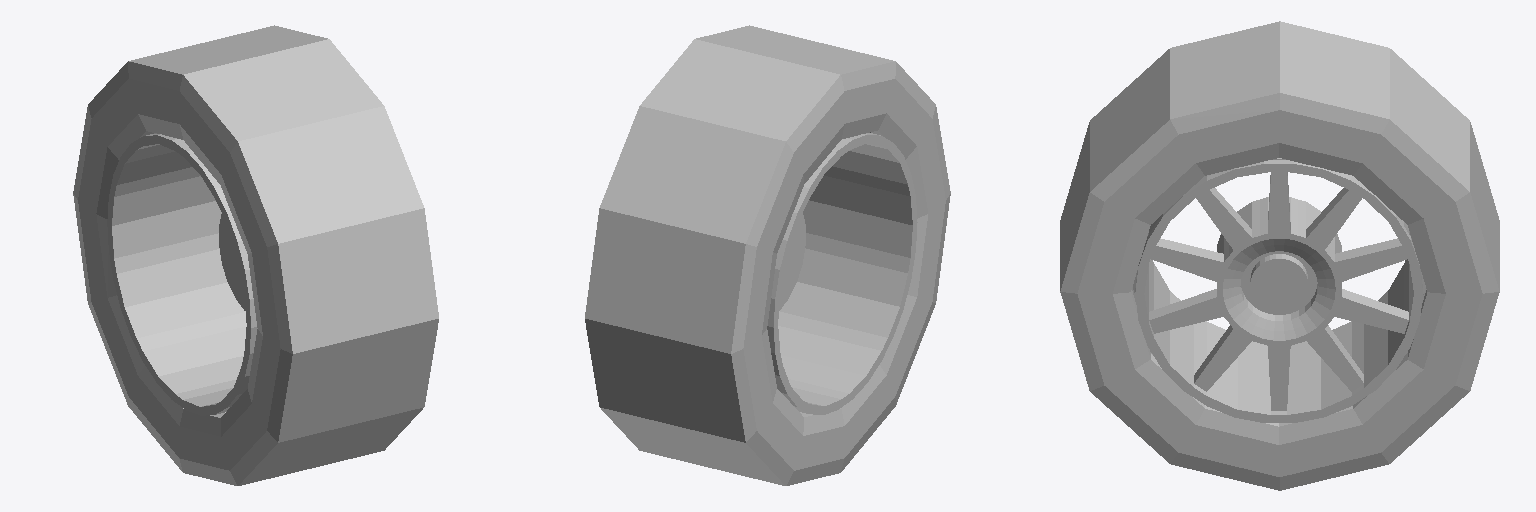
Rendered from Wheel.obj.
The picture shows the model from 3 angles: view 1: azimuth 30°, elevation 25°; view 2: azimuth 150°, elevation 25°; view 3: azimuth 270°, elevation 25°; orthographic projection.
Size of the model in its own units: 0.609 by 1.5 by 1.5.